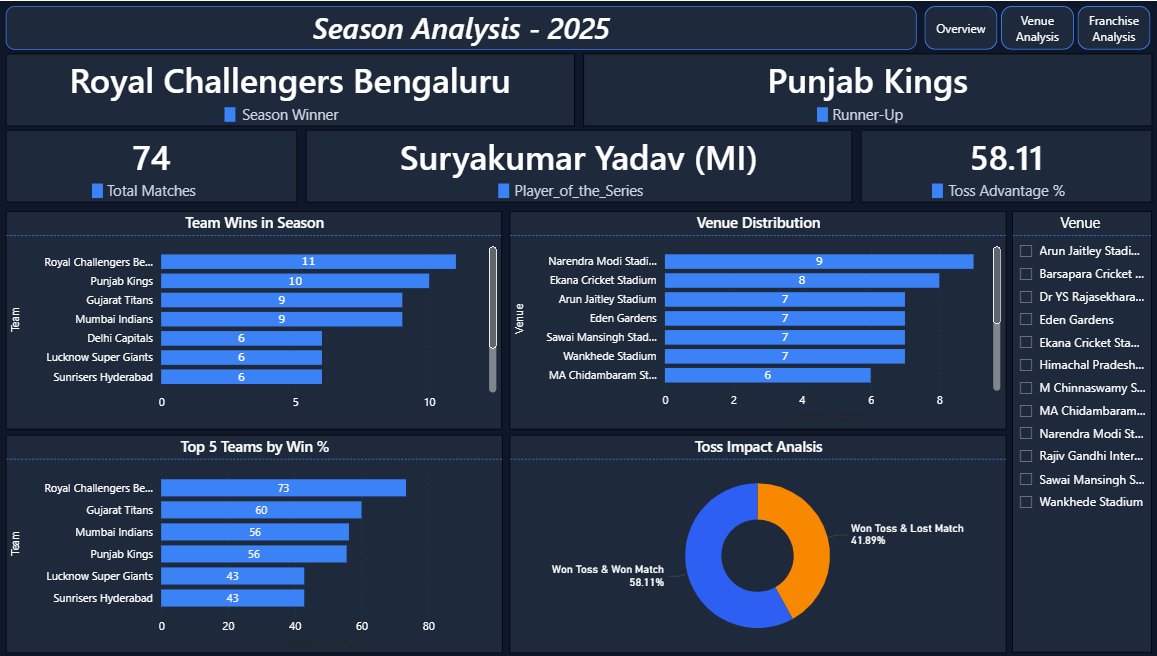

The page's visual inventory and layout, read from the dashboard file:
{"tool":"powerbi","page":{"name":"Season Analysis","canvas":[1280,720],"ordinal":1},"visuals":[{"type":"clusteredBarChart","title":"Team Wins in Season","fields":{"Category":["ipl_data.winner"],"Y":["ipl_data.Total Matches"]},"box":[9.8,230,545,240],"z":0},{"type":"barChart","title":"Venue Distribution","fields":{"Category":["ipl_data.venue"],"Y":["ipl_data.Total Matches"]},"box":[562.5,229.9,545.4,239.7],"z":1000},{"type":"clusteredBarChart","title":"Top 5 Teams by Win %","fields":{"Category":["team_performance_analysis.team"],"Y":["team_performance_analysis.Season Win %"]},"box":[9.8,475.7,545.4,239.7],"z":2000},{"type":"donutChart","title":"Toss Impact Analsis","fields":{"Y":["ipl_data.Total Matches"],"Series":["ipl_data.Toss Impact"]},"box":[562.5,475.7,545.4,239.7],"z":3000},{"type":"card","fields":{"Values":["ipl_data.Total Matches"]},"box":[9.8,141,320,80],"z":5000},{"type":"card","fields":{"Values":["Min(dim_season_stats.season_winner)"]},"box":[9.6,57.6,625,80],"z":6000},{"type":"card","fields":{"Values":["Min(dim_season_stats.runner-up)"]},"box":[643.2,57.5,624.9,80],"z":7000},{"type":"card","fields":{"Values":["Min(dim_season_stats.player_of_the_series)"]},"box":[338.7,141,600,80],"z":8000},{"type":"actionButton","box":[19.2,6.9,38.4,39.8],"z":9000},{"type":"slicer","title":"Venue","fields":{"Values":["ipl_data.venue"]},"box":[1114.8,230.4,153.2,485],"z":10000},{"type":"card","fields":{"Values":["ipl_data.Toss_Advantage_%"]},"box":[947.7,141,320.4,80],"z":12000},{"type":"shape","box":[250,117,12.1,16],"z":13000},{"type":"shape","box":[900,117,12.1,16],"z":14000},{"type":"shape","box":[104,200,12.1,16],"z":15000},{"type":"shape","box":[550,200,12.1,16],"z":16000},{"type":"shape","box":[1027,200,12.1,16],"z":17000},{"type":"pageNavigator","box":[1018.2,4.8,249.7,48.3],"z":18000},{"type":"card","fields":{"Values":["dim_season_stats.Season Analysis Header"]},"box":[10,5,1000,48],"z":18001}]}

Visuals, with their boxes in screenshot pixels (x1, y1, x2, y2), scaled from the page's 1280x720 canvas onto the 1157x656 screenshot:
"Team Wins in Season" clusteredBarChart: (left=9, top=210, right=501, bottom=428)
"Venue Distribution" barChart: (left=508, top=209, right=1001, bottom=428)
"Top 5 Teams by Win %" clusteredBarChart: (left=9, top=433, right=502, bottom=652)
"Toss Impact Analsis" donutChart: (left=508, top=433, right=1001, bottom=652)
card - ipl_data.Total Matches: (left=9, top=128, right=298, bottom=201)
card - Min(dim_season_stats.season_winner): (left=9, top=52, right=574, bottom=125)
card - Min(dim_season_stats.runner-up): (left=581, top=52, right=1146, bottom=125)
card - Min(dim_season_stats.player_of_the_series): (left=306, top=128, right=848, bottom=201)
actionButton: (left=17, top=6, right=52, bottom=43)
"Venue" slicer: (left=1008, top=210, right=1146, bottom=652)
card - ipl_data.Toss_Advantage_%: (left=857, top=128, right=1146, bottom=201)
shape: (left=226, top=107, right=237, bottom=121)
shape: (left=814, top=107, right=824, bottom=121)
shape: (left=94, top=182, right=105, bottom=197)
shape: (left=497, top=182, right=508, bottom=197)
shape: (left=928, top=182, right=939, bottom=197)
pageNavigator: (left=920, top=4, right=1146, bottom=48)
card - dim_season_stats.Season Analysis Header: (left=9, top=5, right=913, bottom=48)
